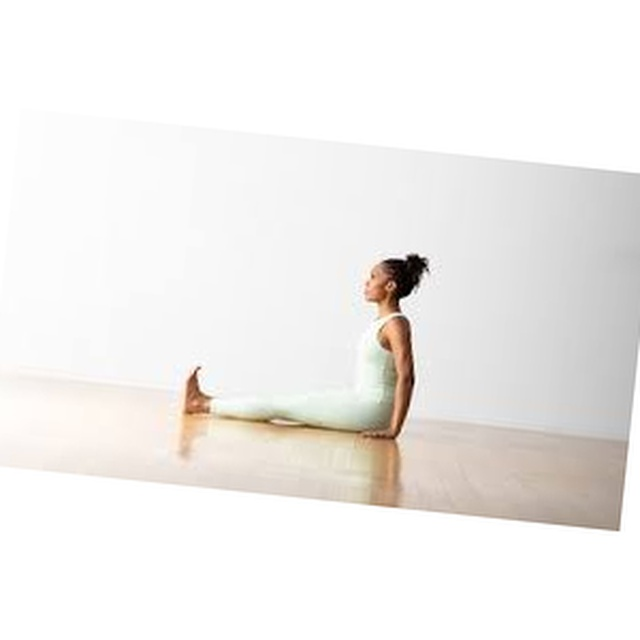Staff_Pose: (182, 252, 433, 443)
